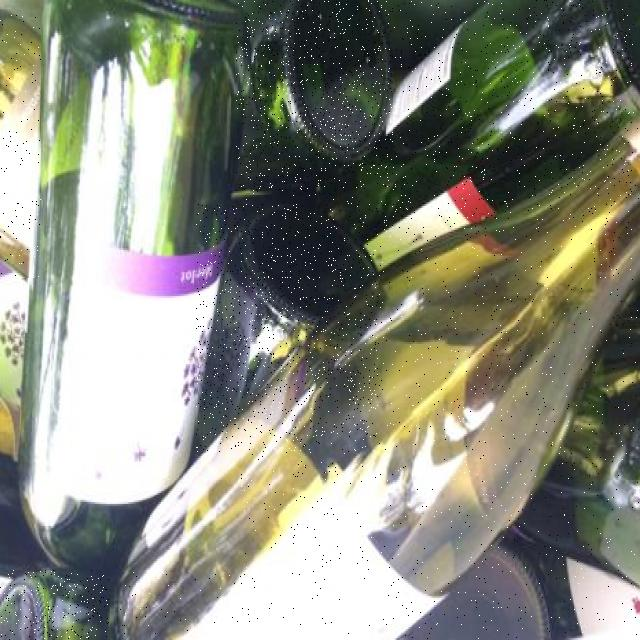glass: (120, 120, 640, 640), (20, 0, 241, 572), (323, 0, 635, 241), (196, 204, 378, 453), (236, 0, 393, 192), (0, 9, 41, 278), (0, 570, 109, 640)
